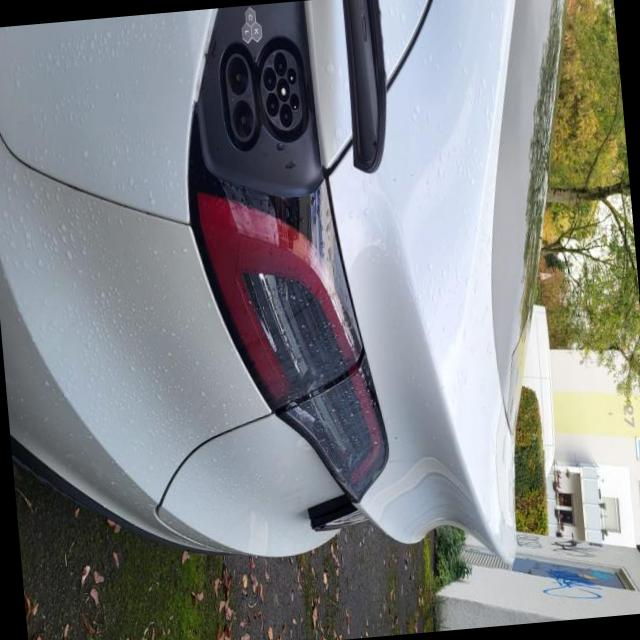inlet: (259, 49, 301, 130)
inlet-above-left: (286, 67, 295, 85)
inlet-above-right: (289, 93, 298, 110)
inlet-below-left: (262, 67, 275, 91)
inlet-below-right: (264, 92, 278, 116)
inlet-center: (275, 77, 289, 101)
inlet-center-left: (273, 53, 286, 76)
inlet-center-right: (278, 103, 292, 127)
